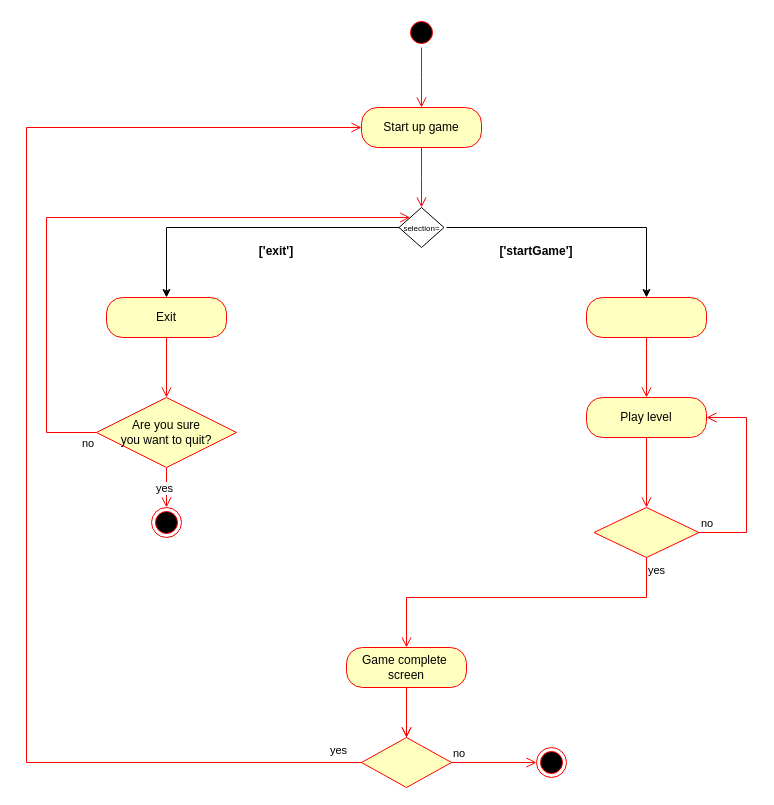
Image size: 774x805. Some labels were removed from this diagram. The centre of each missing label's shape, as x and y in pixels:
Defeat enemy: (646,532)
Play Again?: (406,762)
Start Game: (646,317)
